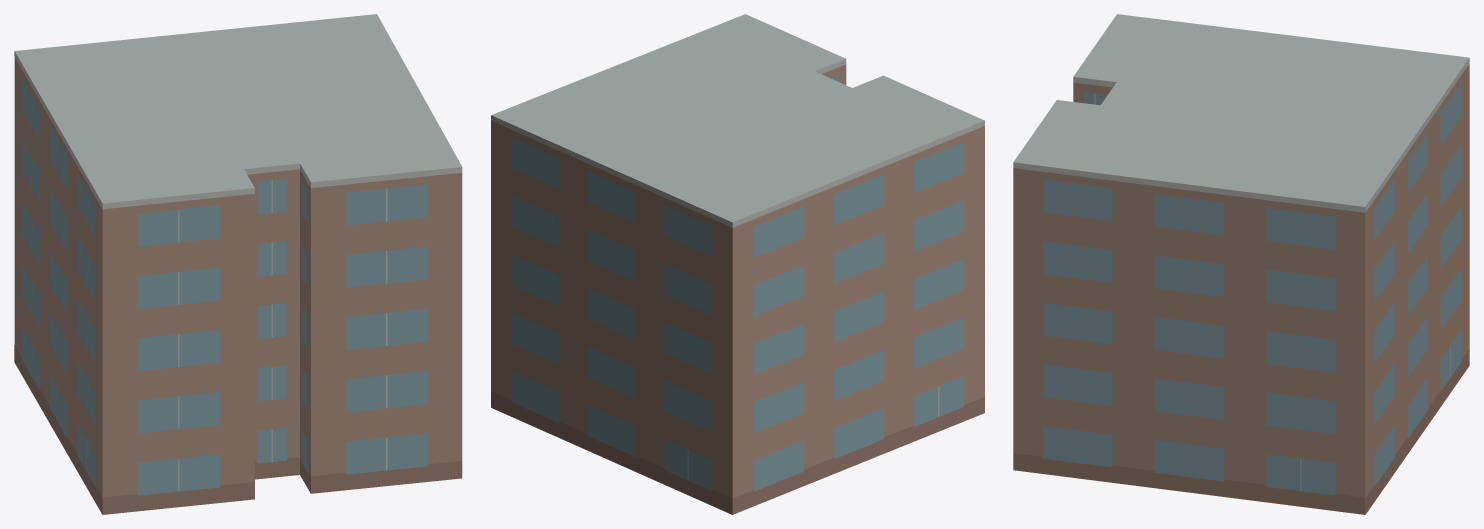
File: survey-upis-32874800.glb
The picture shows the model from 3 angles, left to right: view 1: azimuth 30°, elevation 25°; view 2: azimuth 150°, elevation 25°; view 3: azimuth 270°, elevation 25°; orthographic projection. The views are drawn at different scales.
Parts seen in each view (by area): view 1: survey-upis-32874800.tmp; view 2: survey-upis-32874800.tmp; view 3: survey-upis-32874800.tmp.
Part boxes in pixels (left/top/right/bottom): survey-upis-32874800.tmp: left=14, top=14, right=462, bottom=514; survey-upis-32874800.tmp: left=491, top=14, right=984, bottom=514; survey-upis-32874800.tmp: left=1013, top=14, right=1469, bottom=514.
Bounding box in the file's own units: 17.62 × 13.1 × 17.61.
